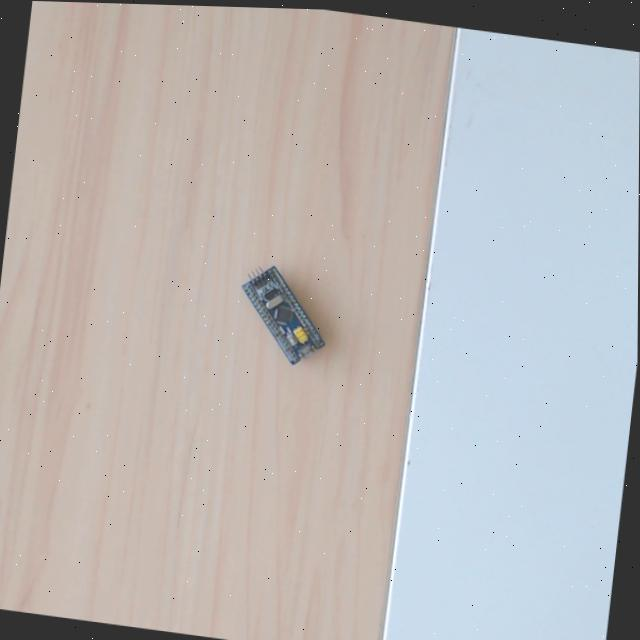STM32-Bluepill: (237, 258, 327, 367)
